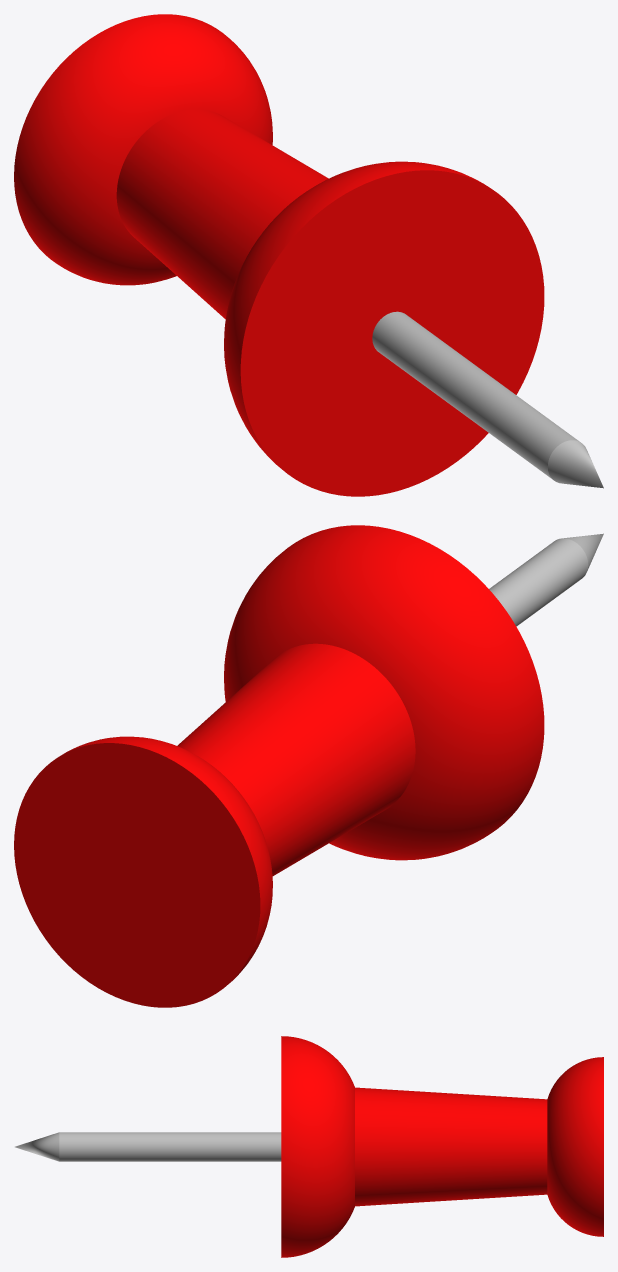
The model's file is thumbtack.fbx.
3 renders of one model, top to bottom at view 1: azimuth 30°, elevation 25°; view 2: azimuth 150°, elevation 25°; view 3: azimuth 270°, elevation 25°, orthographic. The views are drawn at different scales.
Visible parts, largest first — view 1: Part1 (×2); view 2: Part1 (×2); view 3: Part1 (×2).
Part boxes in pixels (x1,y1,x2,y2): Part1 (×2): (14,14,603,496); Part1 (×2): (14,525,603,1007); Part1 (×2): (15,1036,603,1257).
Size of the model in its own units: 9 by 9 by 23.95.
